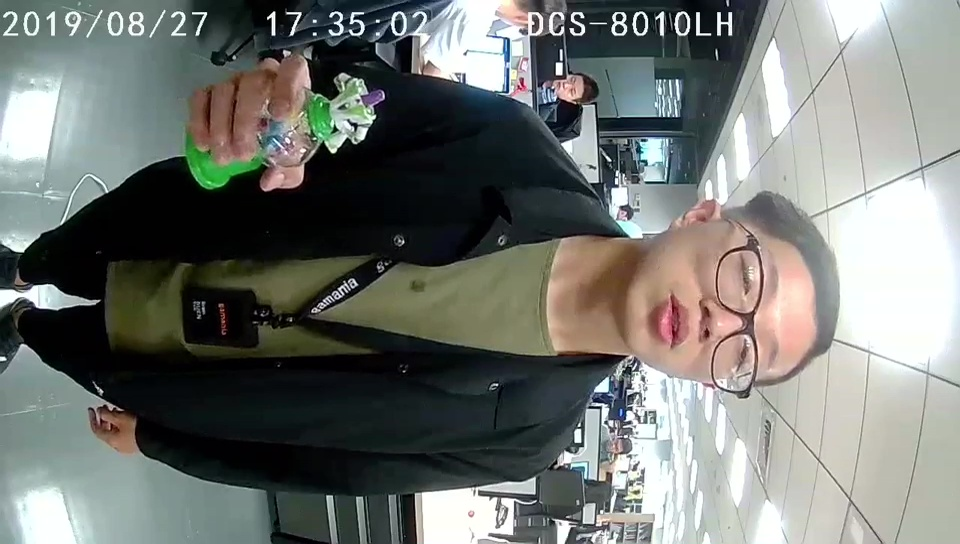buzz: (184, 71, 385, 190)
